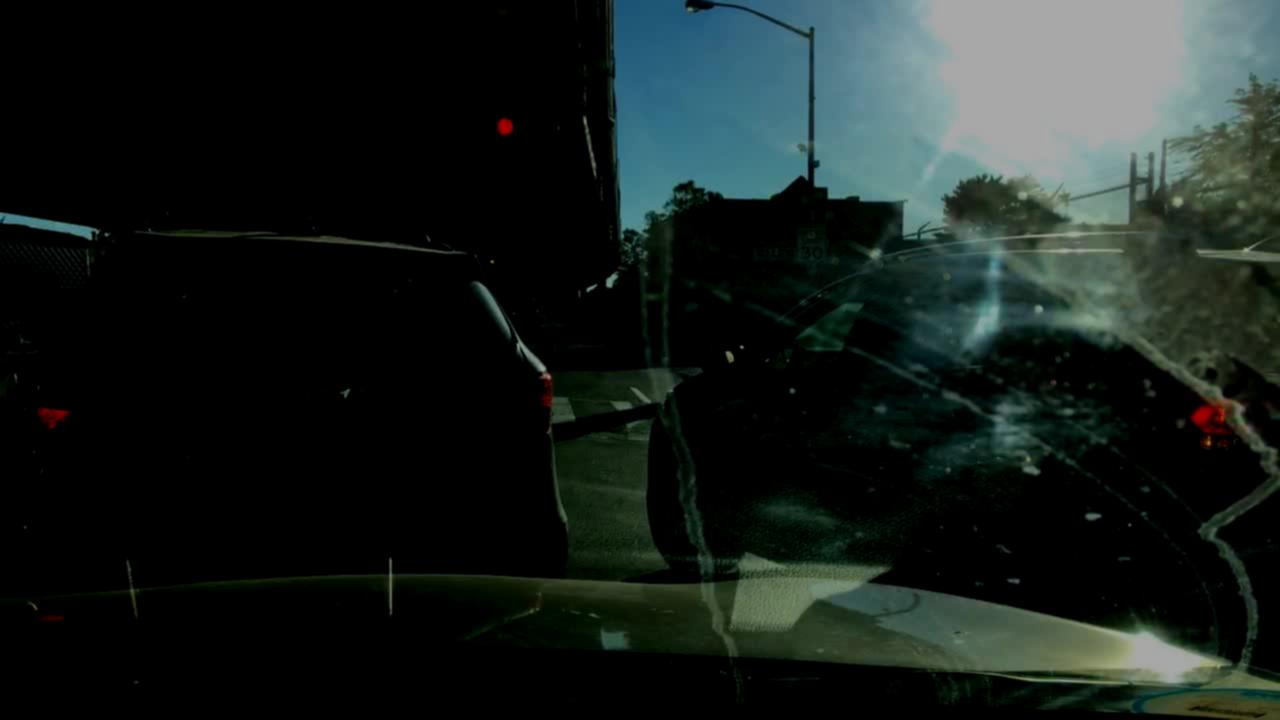Hyundai: (303, 368, 373, 417)
